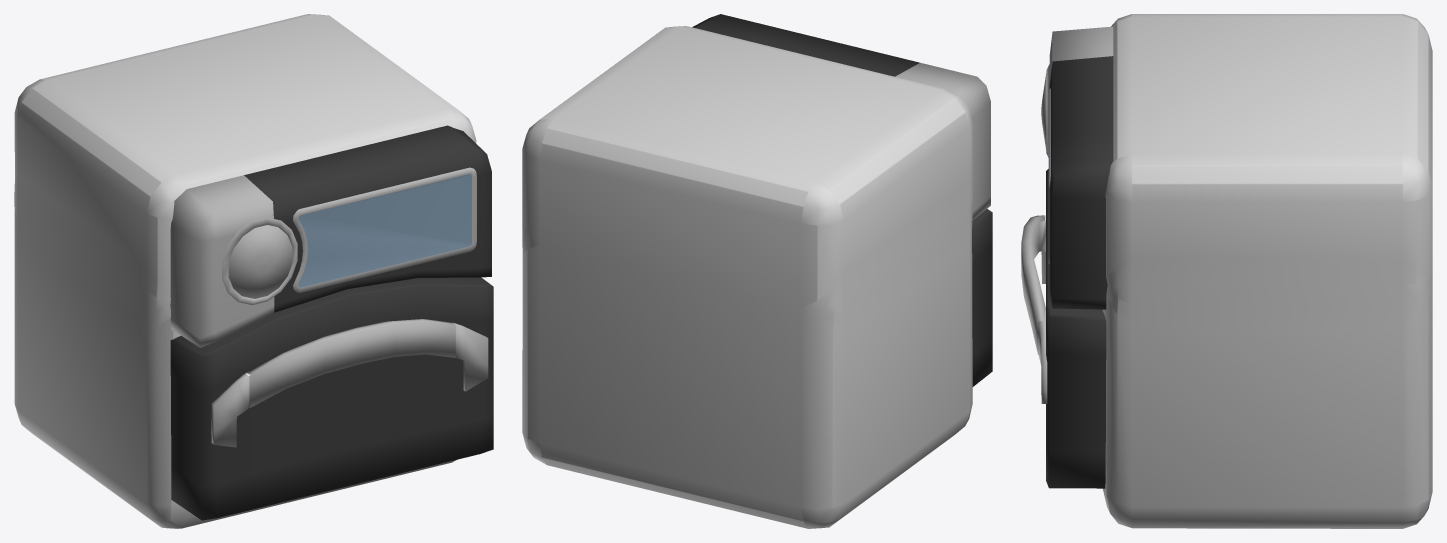
File: oven (1).fbx
3 views of the same model, side by side, from view 1: azimuth 30°, elevation 25°; view 2: azimuth 150°, elevation 25°; view 3: azimuth 270°, elevation 25° (orthographic). The views are drawn at different scales.
Parts seen in each view (by area): view 1: Cube, industrial_oven_low.004, industrial_oven_low.001; view 2: Cube, industrial_oven_low.001, industrial_oven_low.004; view 3: Cube, industrial_oven_low.001, industrial_oven_low.004.
Boxes of the visible parts, <box> form: Cube: <box>14,14,476,528</box>; industrial_oven_low.004: <box>170,277,493,520</box>; industrial_oven_low.001: <box>170,125,491,347</box>; Cube: <box>522,26,972,528</box>; industrial_oven_low.001: <box>692,14,990,220</box>; industrial_oven_low.004: <box>972,209,992,386</box>; Cube: <box>1102,14,1432,528</box>; industrial_oven_low.001: <box>1041,26,1113,309</box>; industrial_oven_low.004: <box>1021,169,1106,488</box>.
Size of the model in its own units: 79.97 by 82.92 by 83.05.
